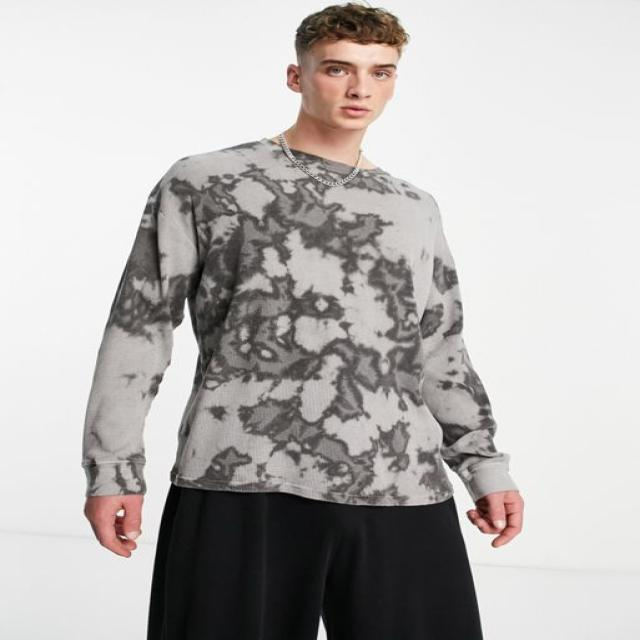tshirt: (84, 138, 515, 508)
